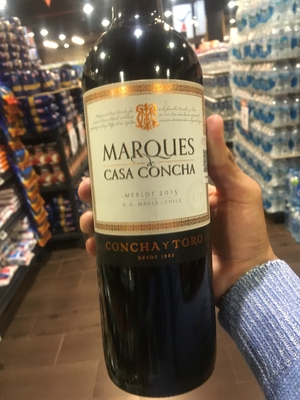marques de casa concha merlot: (70, 23, 222, 377)
